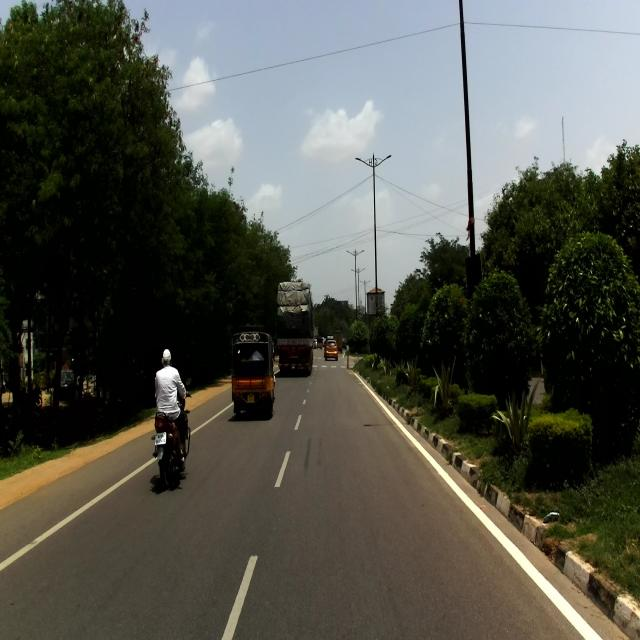autorickshaw: (228, 325, 276, 417)
motorcycle: (151, 377, 192, 489)
truck: (275, 277, 314, 382)
